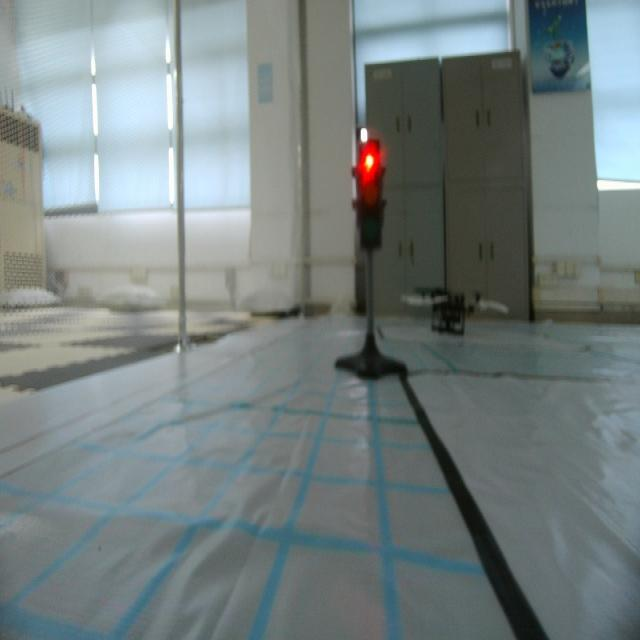red: (353, 139, 387, 252)
